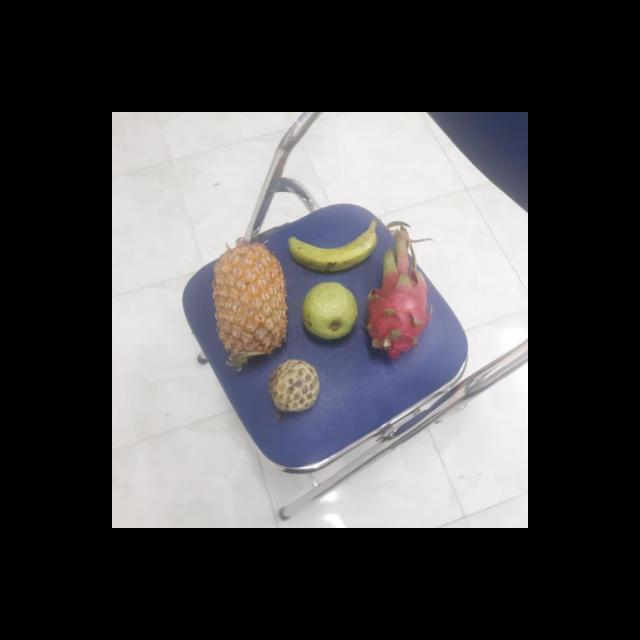Sakya fruit: (264, 360, 321, 413)
banana: (282, 214, 378, 275)
guava: (299, 280, 362, 338)
pineapple: (208, 240, 288, 362)
pitaya: (360, 256, 430, 352)
